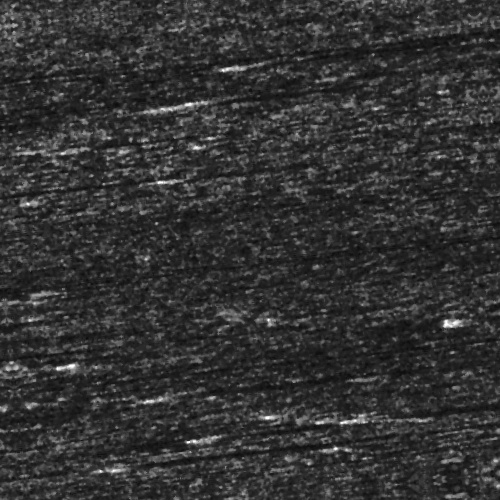object: (303, 422, 428, 437), (124, 91, 229, 100), (129, 378, 212, 389), (233, 60, 326, 69), (64, 122, 137, 131), (411, 336, 484, 345), (69, 444, 142, 453), (0, 307, 48, 320), (161, 427, 214, 434), (36, 339, 99, 344), (166, 167, 219, 172), (0, 332, 24, 341)
shadow: (171, 378, 500, 389), (366, 422, 500, 437), (0, 307, 133, 320), (280, 60, 448, 69), (177, 91, 344, 100), (106, 444, 273, 453), (100, 122, 264, 131), (0, 332, 158, 341), (0, 162, 114, 169), (0, 324, 135, 329), (0, 93, 67, 102), (188, 427, 272, 434), (447, 336, 500, 345), (193, 167, 276, 172), (68, 339, 149, 344)
